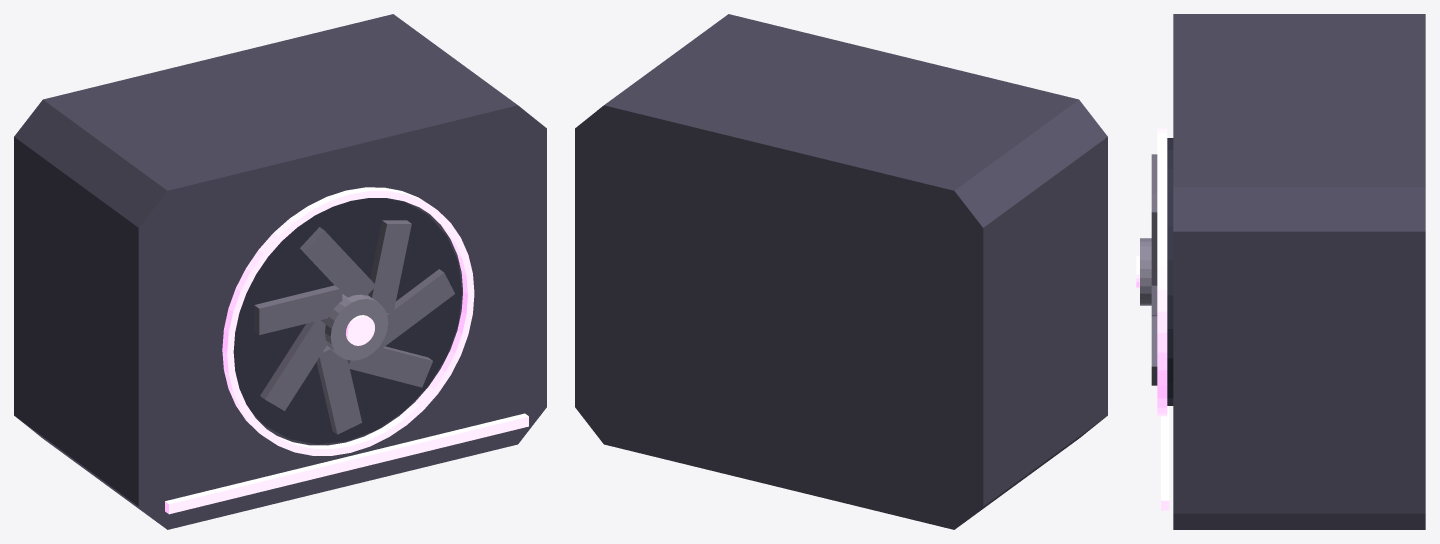
The model's file is power-supply.glb.
3 renders of one model, left to right at view 1: azimuth 30°, elevation 25°; view 2: azimuth 150°, elevation 25°; view 3: azimuth 270°, elevation 25°, orthographic.
Visible parts, largest first — view 1: chamfered shroud, fan recess, blade (×7), LED ring, part, hub, hub accent; view 2: chamfered shroud; view 3: chamfered shroud, LED ring, fan recess, blade (×2), part, hub.
Part boxes in pixels (box(x1,y1,x2,y2)): chamfered shroud: box(14, 14, 546, 529); fan recess: box(233, 198, 462, 444); blade (×7): box(254, 220, 454, 434); LED ring: box(222, 187, 474, 455); part: box(165, 413, 528, 514); hub: box(320, 294, 388, 360); hub accent: box(346, 315, 374, 345); chamfered shroud: box(575, 14, 1107, 529); chamfered shroud: box(1173, 14, 1425, 529); LED ring: box(1157, 127, 1167, 416); fan recess: box(1167, 138, 1173, 405); blade (×2): box(1151, 194, 1157, 385); part: box(1161, 406, 1169, 510); hub: box(1140, 238, 1151, 305).
Size of the model in its own units: 1.7 by 1.35 by 1.03.
